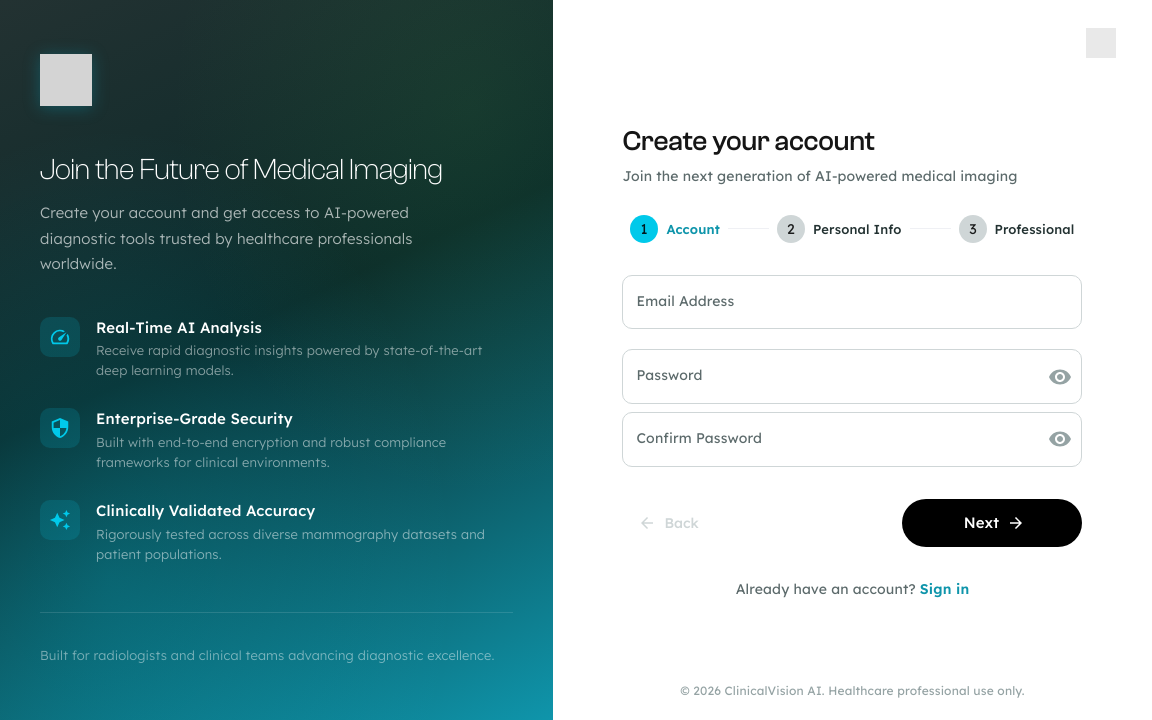
Test: RegisterPage — Password Hints Visual Feedback › shows red cross icons for all unmet requirements when typing begins
In the password field labelled "Password": [828, 377] box [622, 349, 1032, 404], type "a"
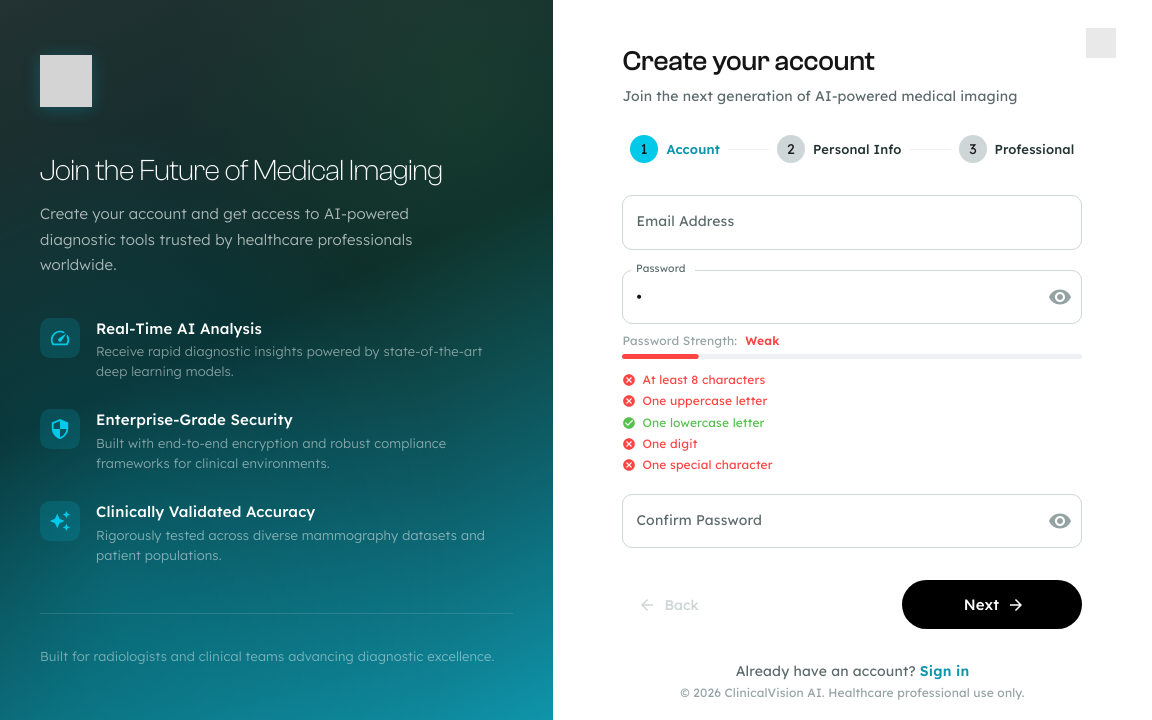
Now the text "At least 8 characters" is shown, box [642, 371, 765, 389]
Now the text "One uppercase letter" is shown, box [642, 392, 768, 410]
Now the text "One lowercase letter" is shown, box [642, 414, 765, 432]
